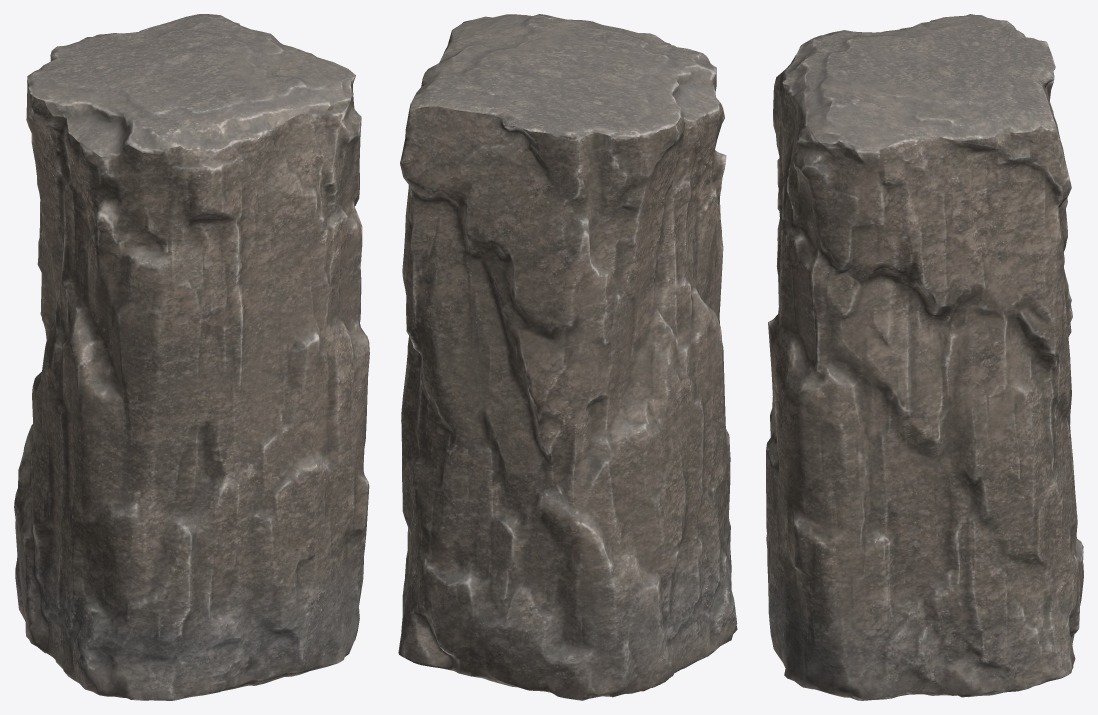
3 renders of one model, left to right at view 1: azimuth 30°, elevation 25°; view 2: azimuth 150°, elevation 25°; view 3: azimuth 270°, elevation 25°, orthographic.
Parts seen in each view (by area): view 1: SM_Rock02; view 2: SM_Rock02; view 3: SM_Rock02.
Boxes of the visible parts, x1=… form: SM_Rock02: x1=14, y1=14, x2=369, y2=700; SM_Rock02: x1=398, y1=14, x2=737, y2=700; SM_Rock02: x1=766, y1=14, x2=1083, y2=700.
Size of the model in its own units: 102 by 208 by 102.
1 material, 1 textured.
